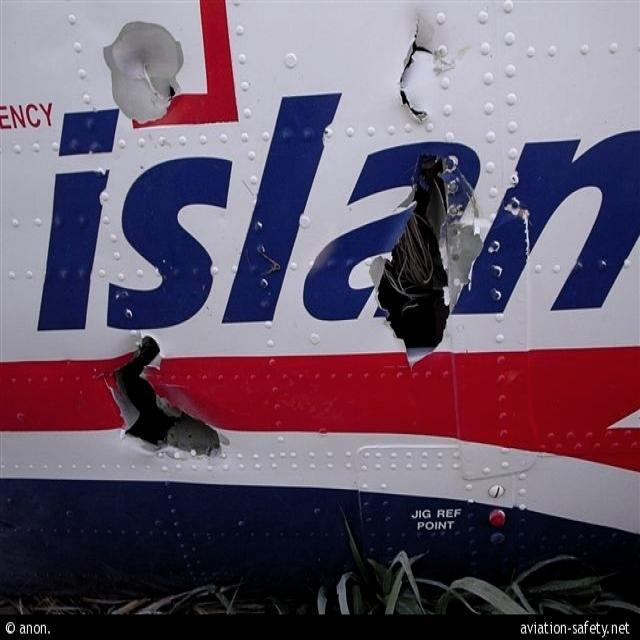crack: (371, 149, 460, 376), (100, 333, 233, 463), (397, 9, 440, 128), (137, 55, 178, 106)
